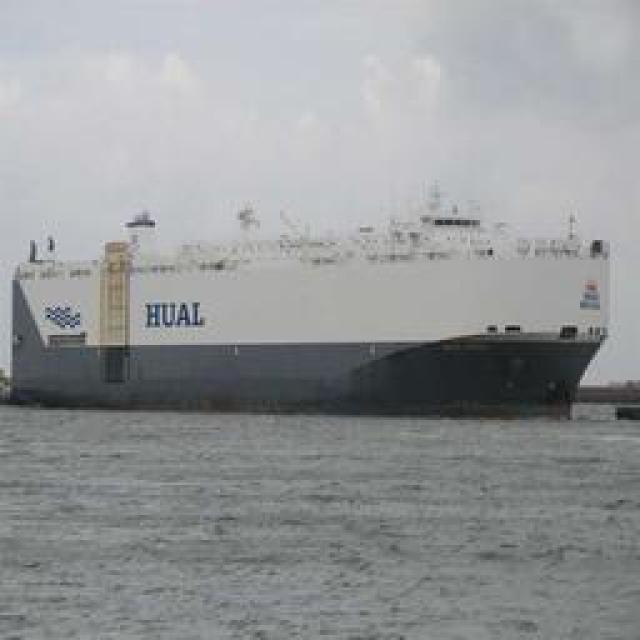Ship: (10, 218, 628, 416)
